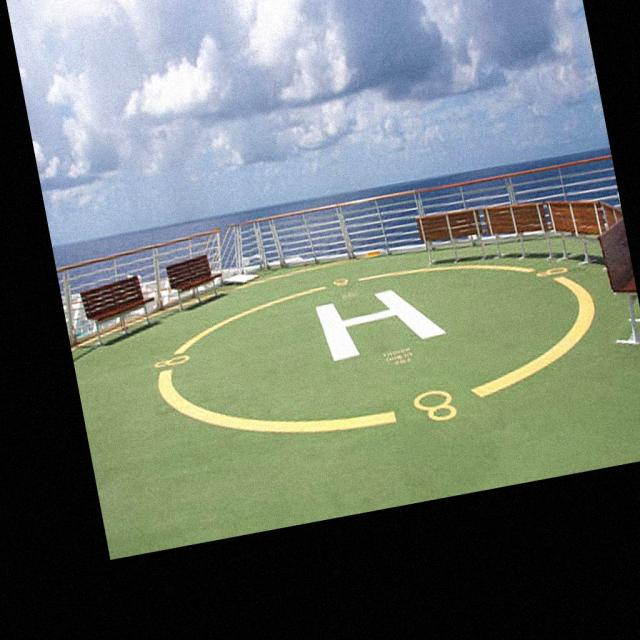helipad: (148, 260, 601, 438)
